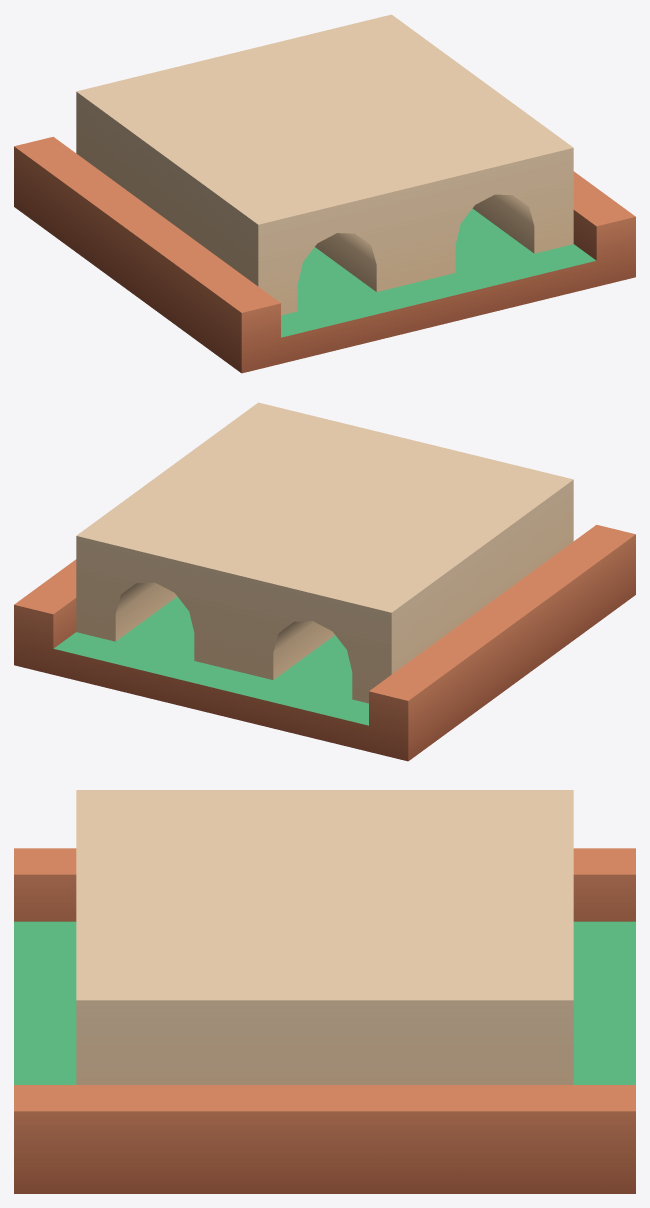
Rendered from tunnel-double.glb.
The picture shows the model from 3 angles, top to bottom: view 1: azimuth 30°, elevation 25°; view 2: azimuth 150°, elevation 25°; view 3: azimuth 270°, elevation 25°; orthographic projection. The views are drawn at different scales.
Parts seen in each view (by area): view 1: tunnel-double; view 2: tunnel-double; view 3: tunnel-double.
Boxes of the visible parts, bbox=[...] form: tunnel-double: bbox=[14, 14, 635, 373]; tunnel-double: bbox=[14, 402, 635, 761]; tunnel-double: bbox=[14, 790, 635, 1193].
Size of the model in its own units: 0.9999 by 0.2966 by 0.9999.
Materials: 1 (1 with a texture image).
